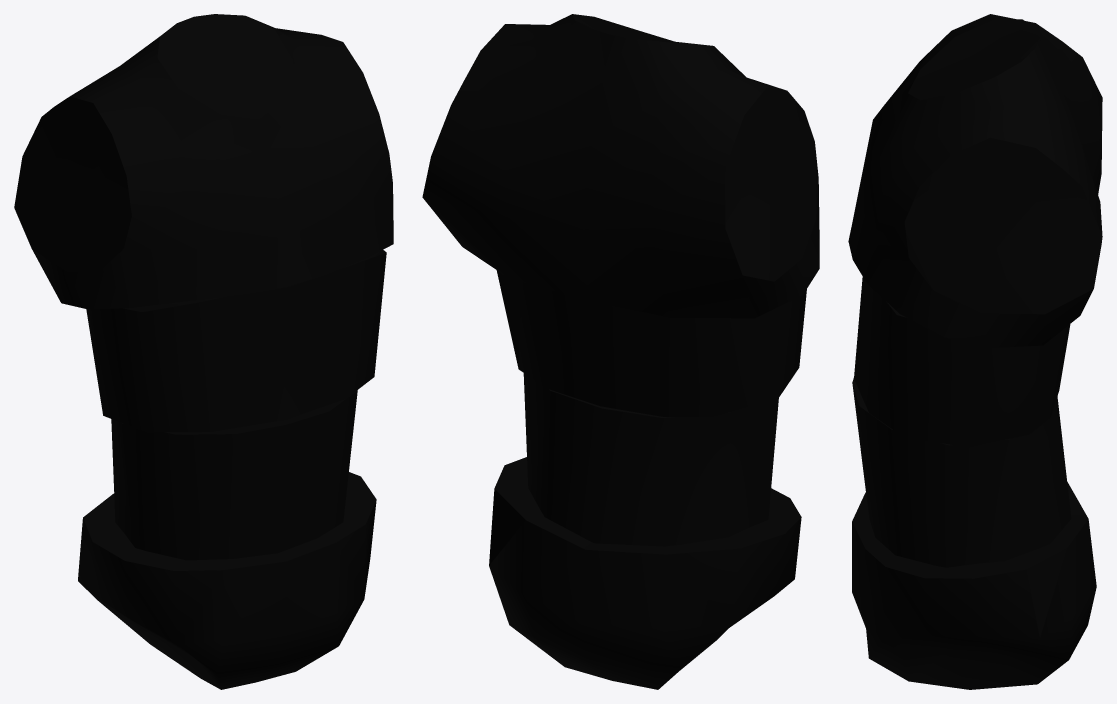
Rendered from player_body.obj.
The picture shows the model from 3 angles, left to right: view 1: azimuth 30°, elevation 25°; view 2: azimuth 150°, elevation 25°; view 3: azimuth 270°, elevation 25°; orthographic projection. The views are drawn at different scales.
Parts seen in each view (by area): view 1: player_body:DummyMeshgroup2; view 2: player_body:DummyMeshgroup2; view 3: player_body:DummyMeshgroup2.
Part boxes in pixels (x1,y1,x2,y2): player_body:DummyMeshgroup2: [14, 14, 393, 689]; player_body:DummyMeshgroup2: [422, 14, 819, 689]; player_body:DummyMeshgroup2: [848, 14, 1102, 689].
Size of the model in its own units: 0.3788 by 0.72 by 0.2577.
1 material, 1 textured.
